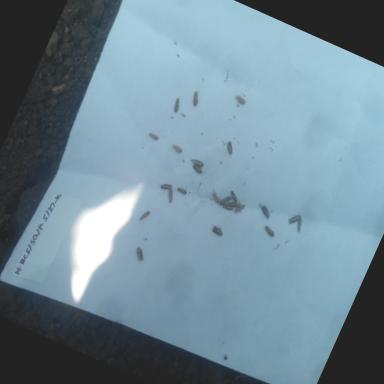pbw: (283, 210, 303, 231), (130, 246, 150, 266), (260, 222, 280, 241), (257, 202, 275, 220), (207, 188, 224, 206), (220, 139, 237, 157), (208, 223, 226, 240), (231, 201, 248, 218), (188, 162, 206, 178), (169, 96, 184, 115), (164, 186, 178, 206), (225, 189, 242, 205), (291, 217, 306, 235), (167, 141, 184, 156), (190, 156, 208, 170), (188, 90, 202, 108), (136, 208, 151, 224), (174, 183, 190, 198), (222, 203, 238, 217), (232, 92, 248, 106), (146, 130, 162, 144), (159, 181, 174, 195), (224, 199, 240, 211), (218, 194, 231, 208)
